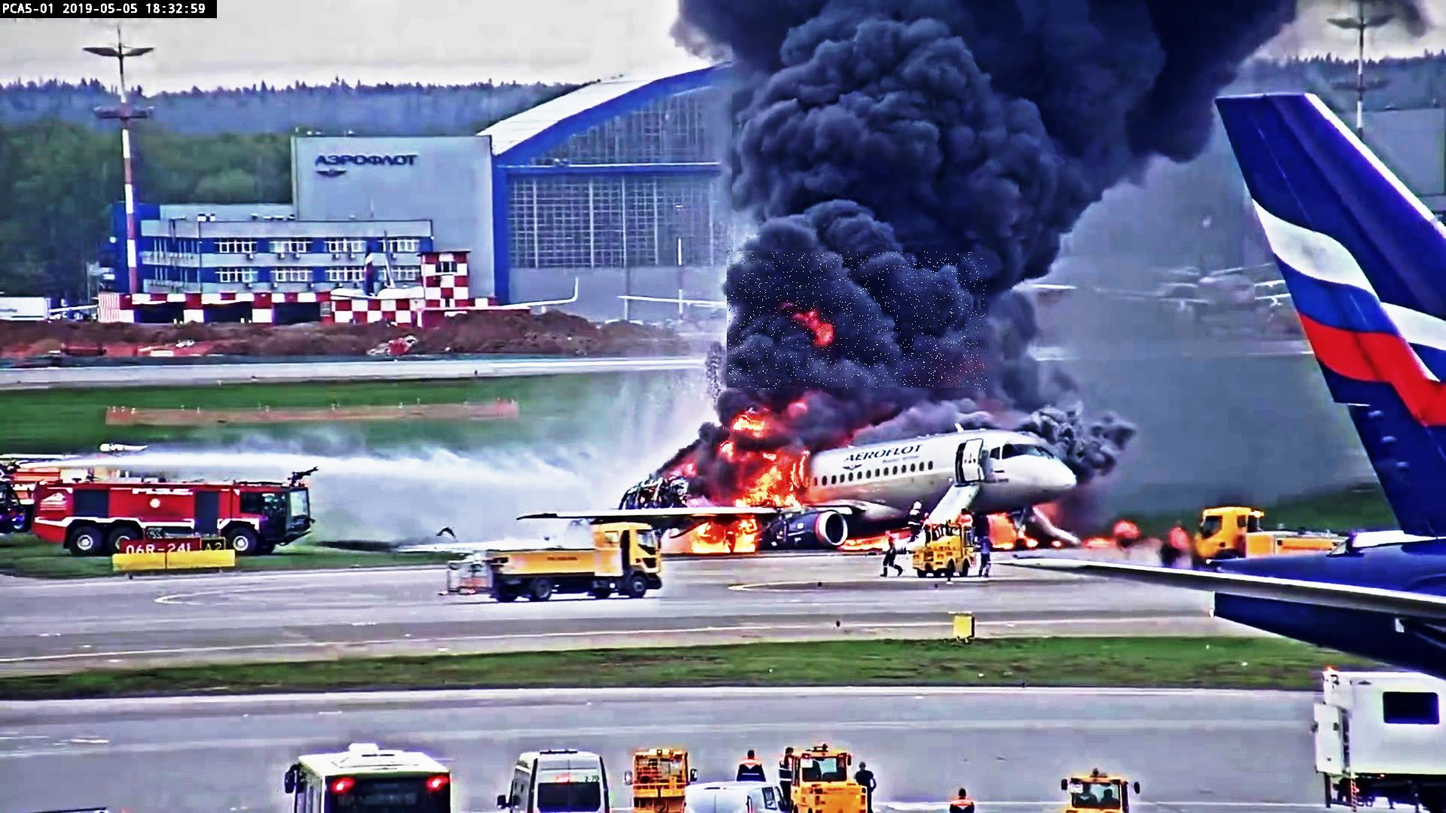fire: (750, 459, 793, 507)
smoke: (732, 0, 1047, 251), (727, 231, 987, 390)
